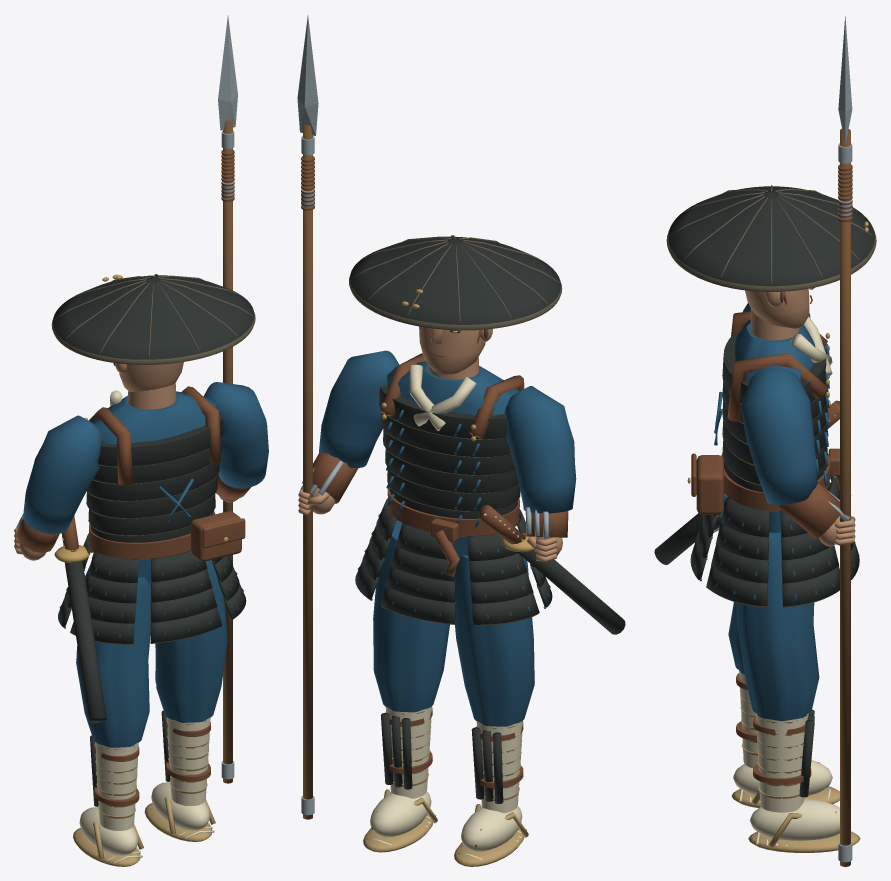
The model's file is detail.glb.
3 renders of one model, left to right at view 1: azimuth 30°, elevation 25°; view 2: azimuth 150°, elevation 25°; view 3: azimuth 270°, elevation 25°, orthographic. The views are drawn at different scales.
Parts seen in each view (by area): view 1: P_Jingasa, P_HakamaL, P_SleeveL, P_HakamaR, P_SleeveR, P_Kosode, P_Yari, P_Saya, P_LegWrapL, P_LegWrapR, P_Do_Lame_05, P_Do_Lame_02 (+26 smaller); view 2: P_Jingasa, P_HakamaL, P_HakamaR, P_SleeveL, P_Yari, P_SleeveR, P_Kosode, P_Do_Lame_02, P_Do_Lame_03, P_Do_Lame_01, P_Face, P_Do_Lame_05 (+31 smaller); view 3: P_Jingasa, P_HakamaR, P_SleeveR, P_Yari, P_LegWrapR, P_TabiR, P_Kosode, P_ShoulderStrap.001, P_KoteR, P_Face, P_UtilityPouch, P_Kusazuri.011 (+22 smaller).
Boxes of the visible parts, x1,y1,x2,y2 form: P_Jingasa: (53, 275, 254, 359); P_HakamaL: (76, 565, 150, 747); P_SleeveL: (23, 415, 103, 534); P_HakamaR: (155, 560, 227, 722); P_SleeveR: (204, 382, 268, 488); P_Kosode: (90, 391, 216, 585); P_Yari: (223, 119, 232, 783); P_Saya: (64, 550, 106, 723); P_LegWrapL: (95, 742, 138, 830); P_LegWrapR: (166, 717, 210, 805); P_Do_Lame_05: (98, 416, 223, 467); P_Do_Lame_02: (86, 475, 217, 518); P_Jingasa: (350, 236, 560, 324); P_HakamaL: (455, 555, 534, 726); P_HakamaR: (373, 520, 449, 712); P_SleeveL: (504, 386, 576, 513); P_Yari: (303, 124, 312, 819); P_SleeveR: (319, 350, 399, 467); P_Kosode: (387, 361, 519, 566); P_Do_Lame_02: (385, 449, 518, 493); P_Do_Lame_03: (383, 429, 515, 475); P_Do_Lame_01: (387, 469, 520, 511); P_Face: (419, 326, 485, 374); P_Do_Lame_05: (379, 385, 507, 439); P_Jingasa: (668, 186, 874, 286); P_HakamaR: (736, 532, 819, 721); P_SleeveR: (741, 367, 817, 505); P_Yari: (840, 129, 850, 866); P_LegWrapR: (755, 713, 808, 812); P_TabiR: (750, 799, 839, 840); P_Kosode: (734, 319, 815, 533); P_ShoulderStrap.001: (727, 353, 827, 421); P_KoteR: (778, 482, 840, 538); P_Face: (745, 289, 809, 328); P_UtilityPouch: (696, 455, 723, 514); P_Kusazuri.011: (706, 566, 768, 606).
Size of the model in its own units: 0.7858 by 2.46 by 0.5693.
